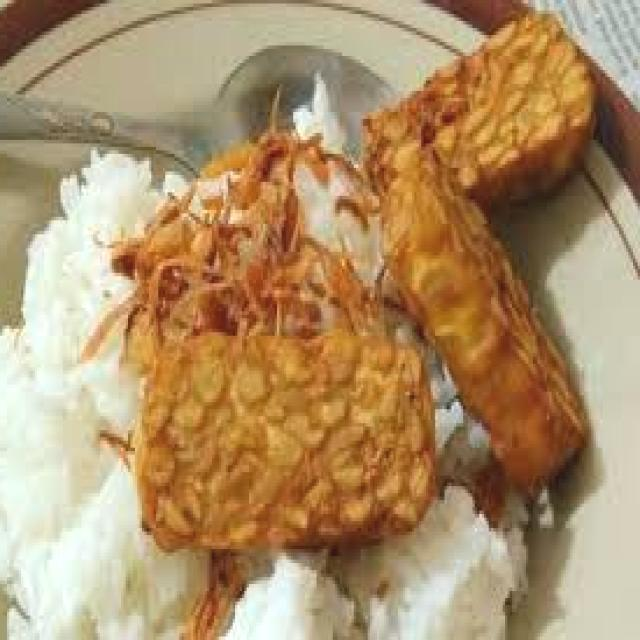tempe goreng: (135, 325, 438, 553)
